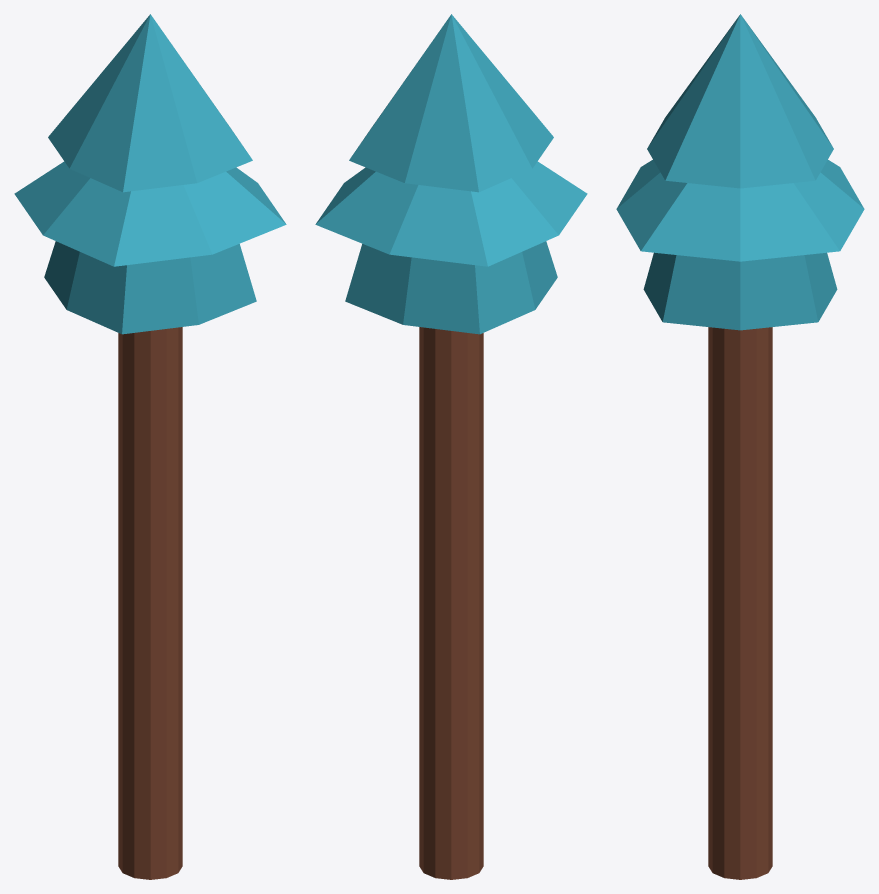
File: Tree_20_summer_blue_mat.fbx
The picture shows the model from 3 angles, left to right: view 1: azimuth 30°, elevation 25°; view 2: azimuth 150°, elevation 25°; view 3: azimuth 270°, elevation 25°; orthographic projection.
Visible parts, largest first — view 1: Tree_20_summer_blue_mat; view 2: Tree_20_summer_blue_mat; view 3: Tree_20_summer_blue_mat.
Part boxes in pixels (x1,y1,x2,y2): Tree_20_summer_blue_mat: (14, 14, 286, 879); Tree_20_summer_blue_mat: (315, 14, 587, 879); Tree_20_summer_blue_mat: (616, 14, 864, 879).
Bounding box in the file's own units: 85.54 × 324 × 85.54.
